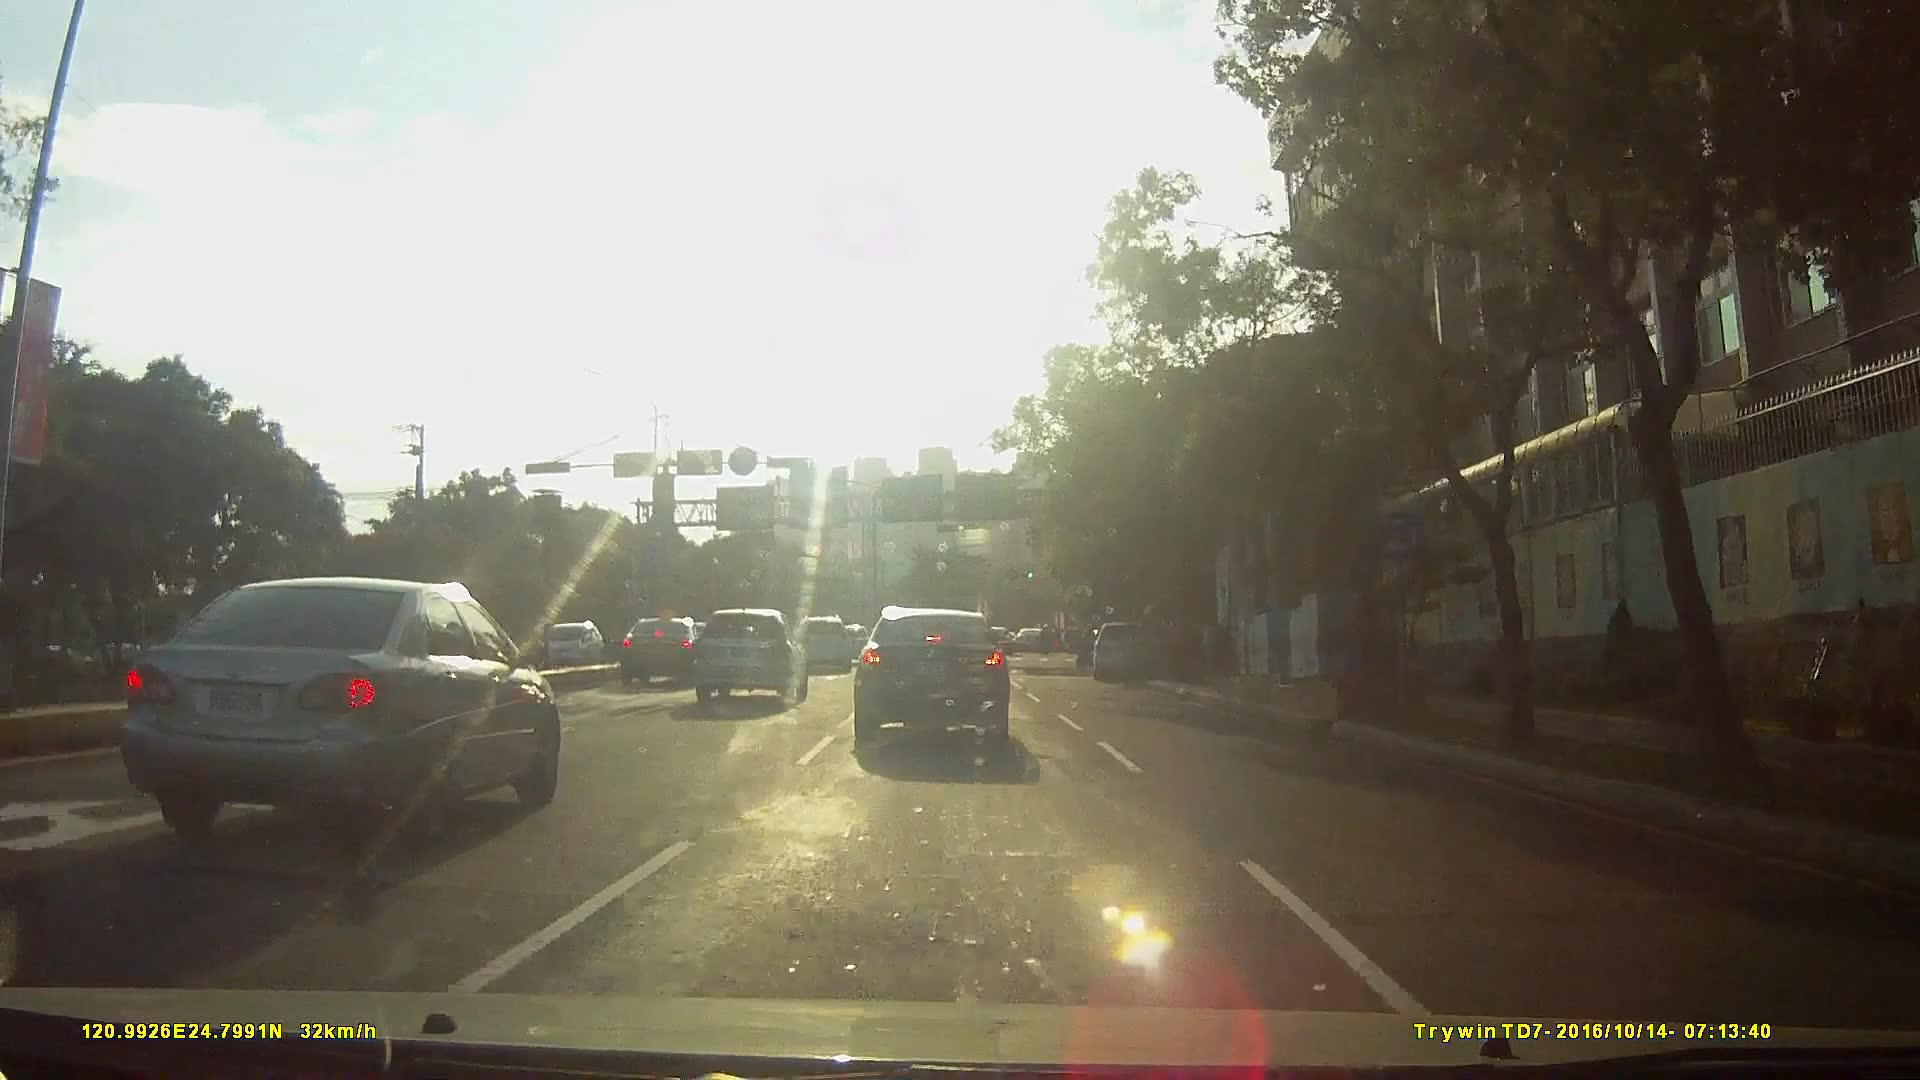vehicle: (102, 563, 568, 860), (847, 605, 1027, 765), (684, 607, 808, 704), (601, 615, 698, 688), (525, 618, 608, 675), (1095, 620, 1164, 682), (786, 612, 849, 674), (1013, 624, 1055, 651)
